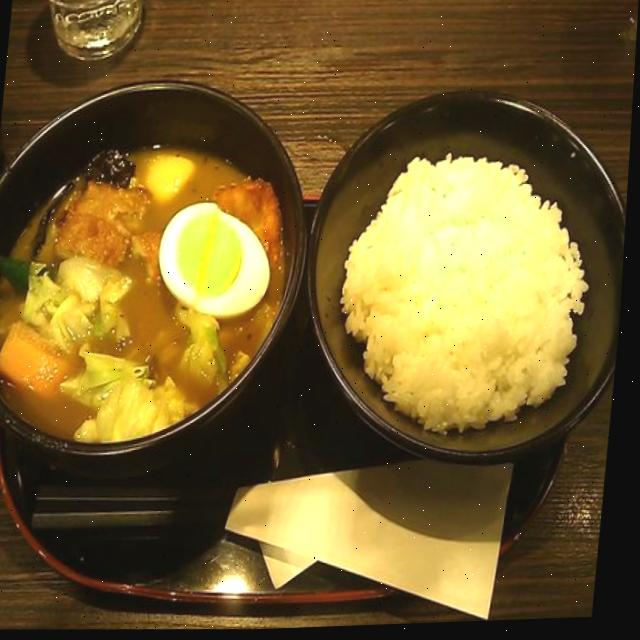米饭主食: (293, 71, 636, 472)
